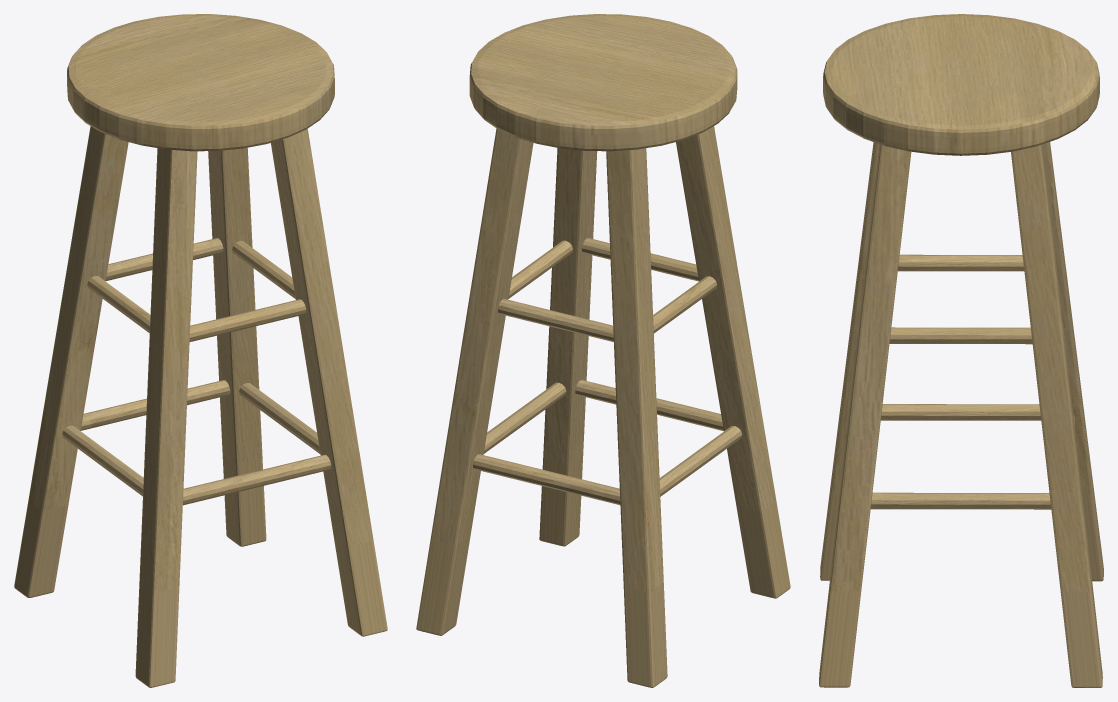
File: b0-stool2.glb
The picture shows the model from 3 angles, left to right: view 1: azimuth 30°, elevation 25°; view 2: azimuth 150°, elevation 25°; view 3: azimuth 270°, elevation 25°; orthographic projection. The views are drawn at different scales.
Parts seen in each view (by area): view 1: Cube.028_Cube.029; view 2: Cube.028_Cube.029; view 3: Cube.028_Cube.029.
Boxes of the visible parts, x1=… form: Cube.028_Cube.029: x1=14, y1=14, x2=387, y2=687; Cube.028_Cube.029: x1=416, y1=14, x2=790, y2=687; Cube.028_Cube.029: x1=819, y1=14, x2=1103, y2=687.
Size of the model in its own units: 0.361 by 0.78 by 0.361.
Materials: 1 (1 with a texture image).
